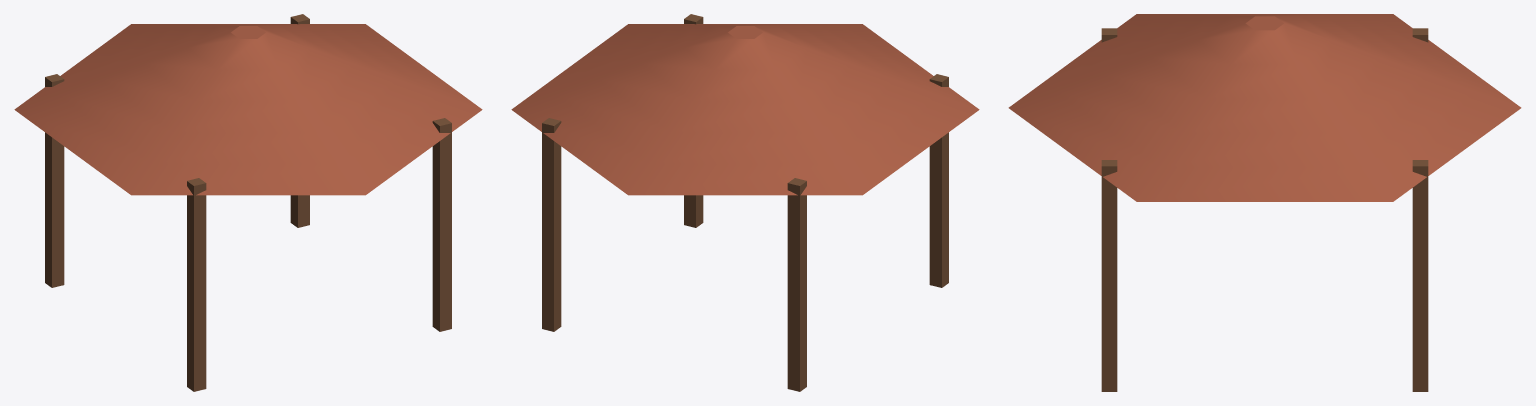
The model's file is gazebo.glb.
3 views of the same model, side by side, from view 1: azimuth 30°, elevation 25°; view 2: azimuth 150°, elevation 25°; view 3: azimuth 270°, elevation 25° (orthographic). The views are drawn at different scales.
Visible parts, largest first — view 1: _MeshInstance3D_180, _MeshInstance3D_171, _MeshInstance3D_177, _MeshInstance3D_168, _MeshInstance3D_174; view 2: _MeshInstance3D_180, _MeshInstance3D_168, _MeshInstance3D_174, _MeshInstance3D_171, _MeshInstance3D_177; view 3: _MeshInstance3D_180, _MeshInstance3D_174, _MeshInstance3D_177.
Part boxes in pixels (x1,y1,x2,y2): _MeshInstance3D_180: [14, 24, 482, 195]; _MeshInstance3D_171: [187, 178, 206, 391]; _MeshInstance3D_177: [432, 118, 451, 331]; _MeshInstance3D_168: [45, 74, 64, 287]; _MeshInstance3D_174: [290, 14, 309, 227]; _MeshInstance3D_180: [511, 24, 979, 195]; _MeshInstance3D_168: [787, 178, 806, 391]; _MeshInstance3D_174: [542, 118, 561, 331]; _MeshInstance3D_171: [929, 74, 948, 287]; _MeshInstance3D_177: [684, 14, 703, 227]; _MeshInstance3D_180: [1008, 14, 1521, 201]; _MeshInstance3D_174: [1412, 160, 1428, 391]; _MeshInstance3D_177: [1101, 160, 1117, 391].
Bounding box in the file's own units: 5.72 × 4.25 × 6.6.
